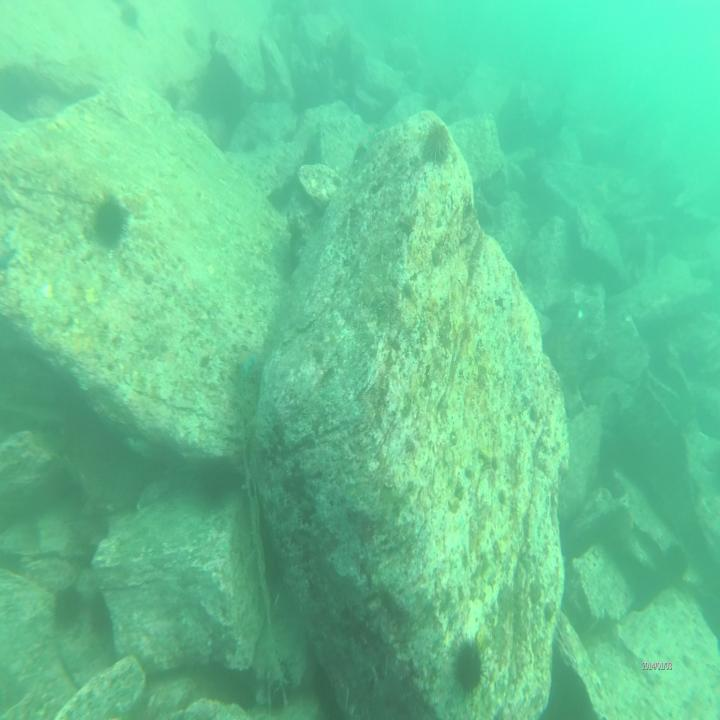echinus: (88, 189, 134, 256), (447, 629, 489, 697), (420, 115, 453, 170), (666, 536, 690, 588), (119, 0, 140, 34)
starfish: (234, 341, 256, 378)
